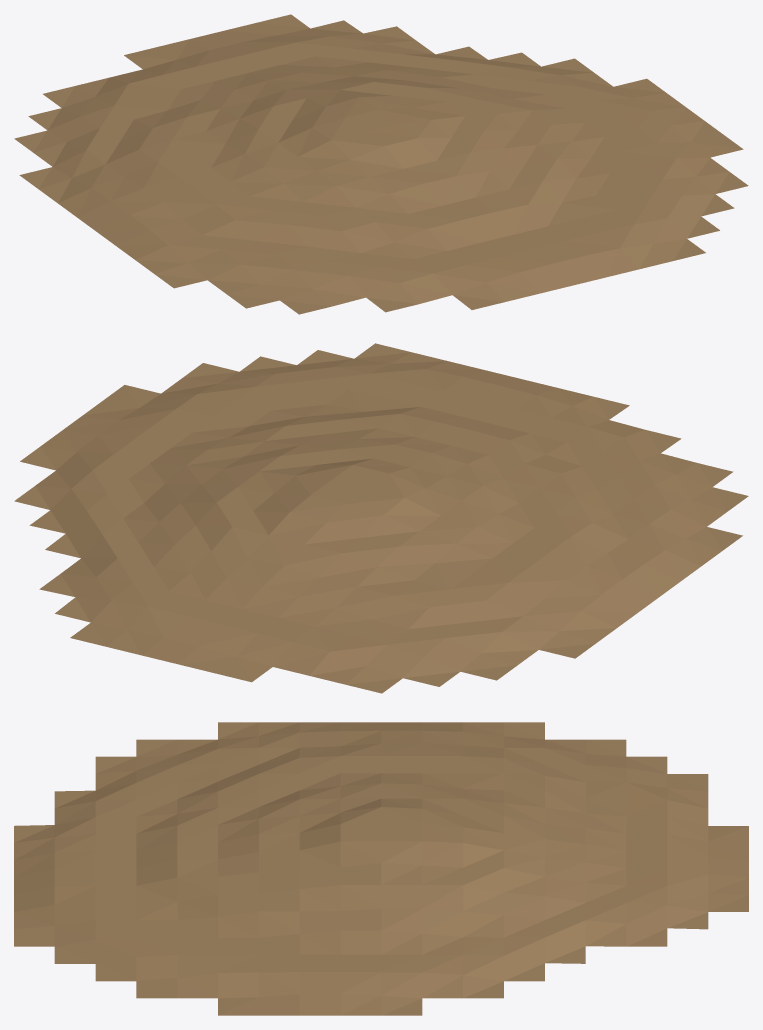
Rendered from SM_Env_GroundMounds_09.fbx.
3 renders of one model, top to bottom at view 1: azimuth 30°, elevation 25°; view 2: azimuth 150°, elevation 25°; view 3: azimuth 270°, elevation 25°, orthographic. The views are drawn at different scales.
Visible parts, largest first — view 1: SM_Env_GroundMounds_09; view 2: SM_Env_GroundMounds_09; view 3: SM_Env_GroundMounds_09.
Part boxes in pixels (left/top/right/bottom): SM_Env_GroundMounds_09: left=14, top=14, right=748, bottom=314; SM_Env_GroundMounds_09: left=14, top=343, right=748, bottom=693; SM_Env_GroundMounds_09: left=14, top=722, right=748, bottom=1015.
Size of the model in its own units: 0.0692 by 0.004 by 0.0733.
1 material, 1 textured.
